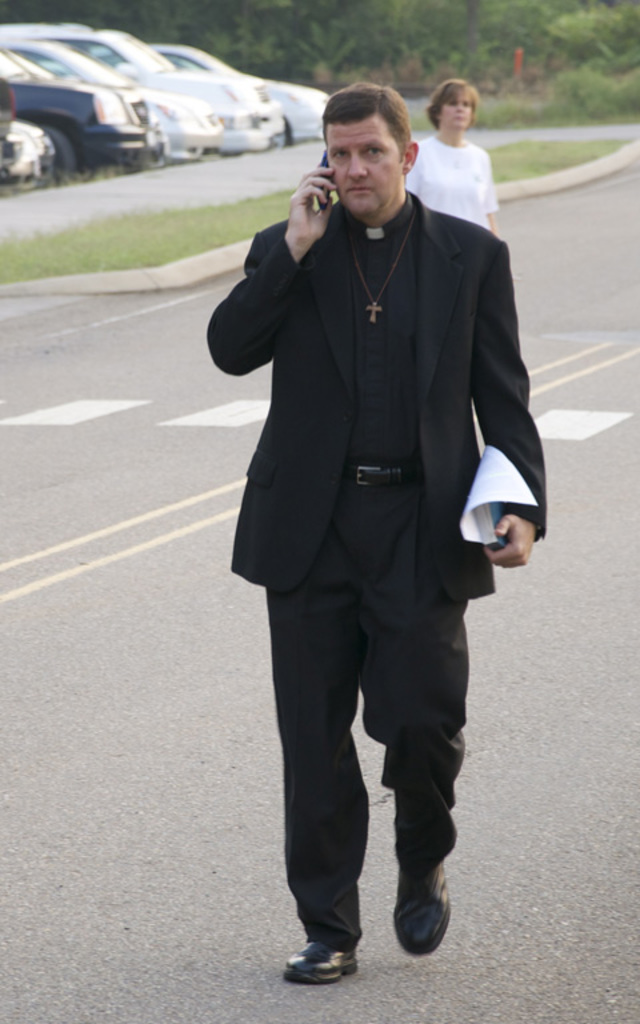Human_hand: (285, 162, 335, 235), (483, 514, 536, 567)
